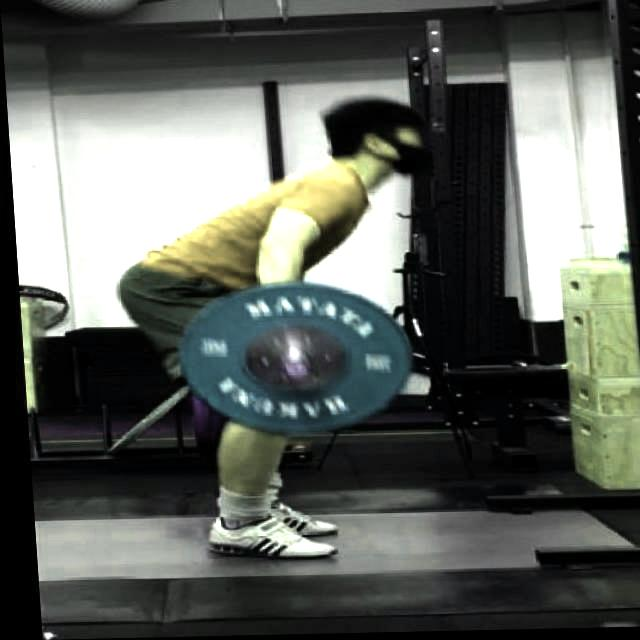barbell: (167, 276, 417, 444)
